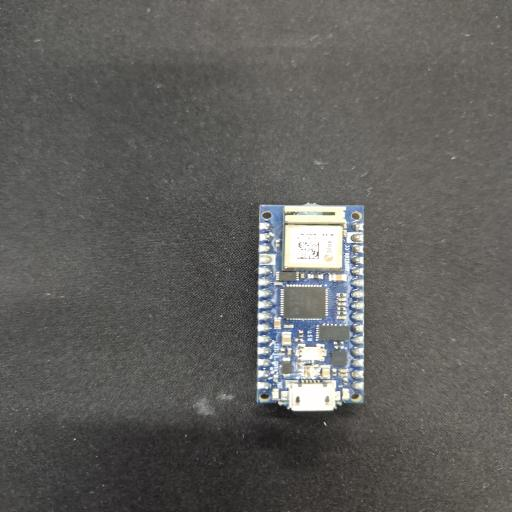arduino-nano-iot-33: (259, 202, 365, 410)
